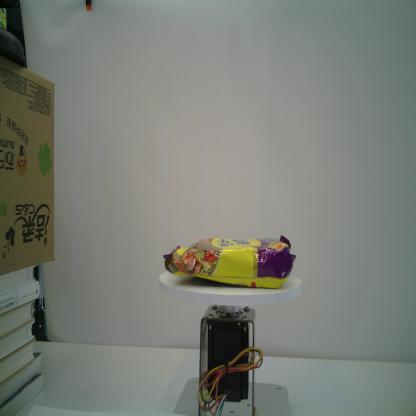Instant Noodles: (162, 234, 298, 290)
